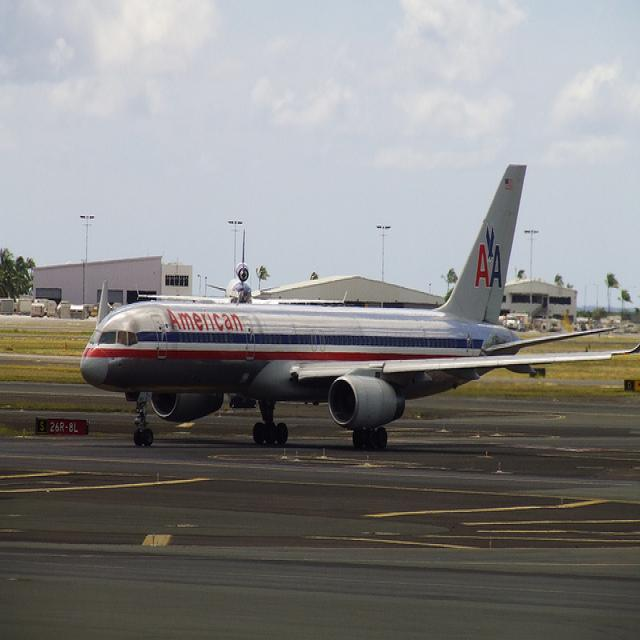airplane: (78, 163, 640, 453)
